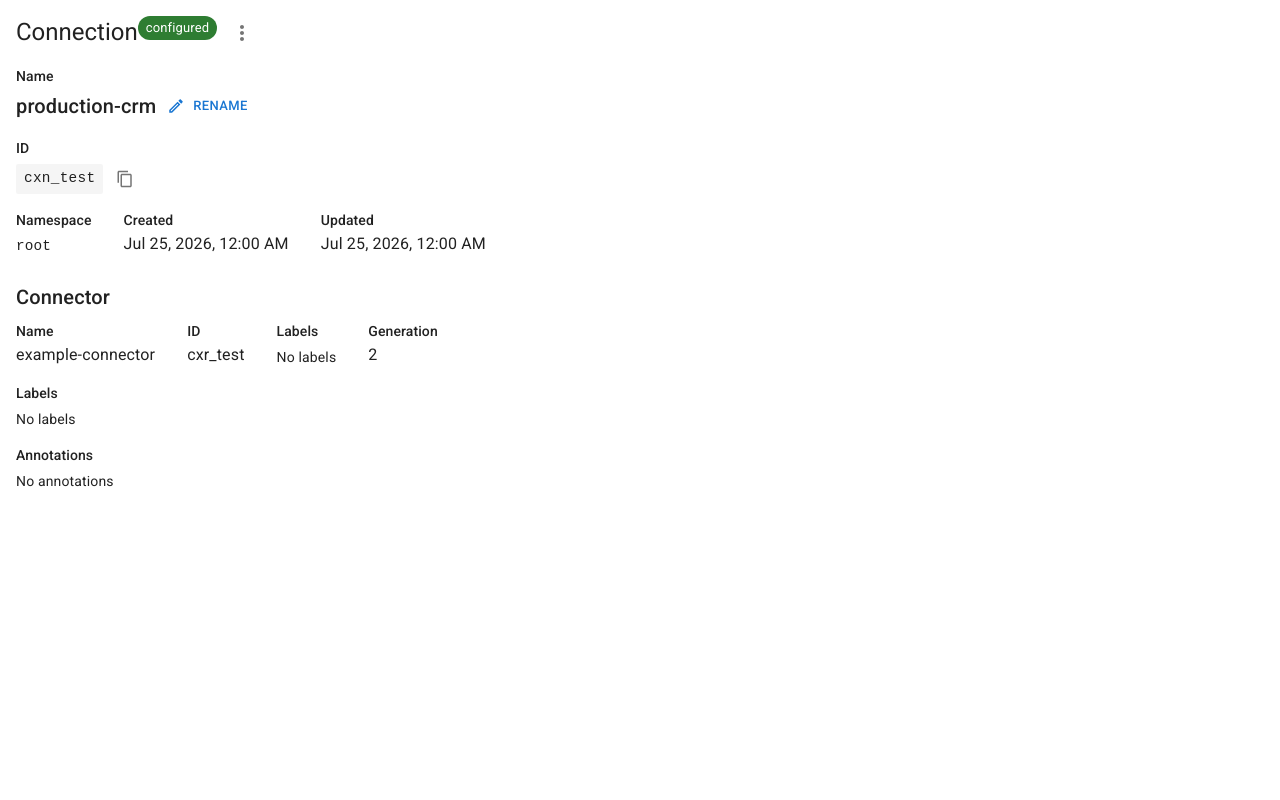
Test case: ConnectionDetail › filters migration targets and starts a migration to the primary generation
The width and height of the screenshot is (1280, 800).
Expected: the heading "Connection" is shown, [16,16,138,50]
Expected: the text "root" is shown, [16,236,51,257]
Click the button named "actions" at (242, 33), box [225,16,259,50]
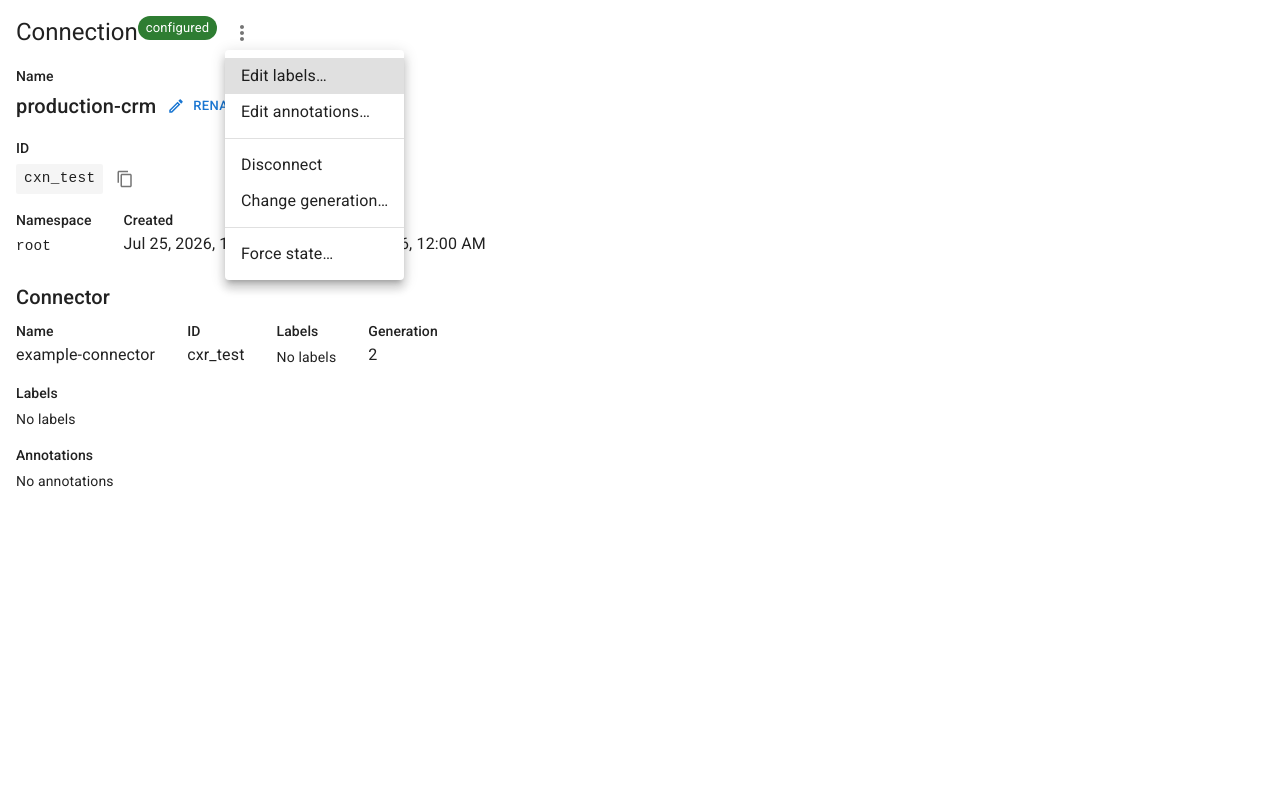
Click the menu item "Change generation…" at (315, 200), box [241,191,388,210]
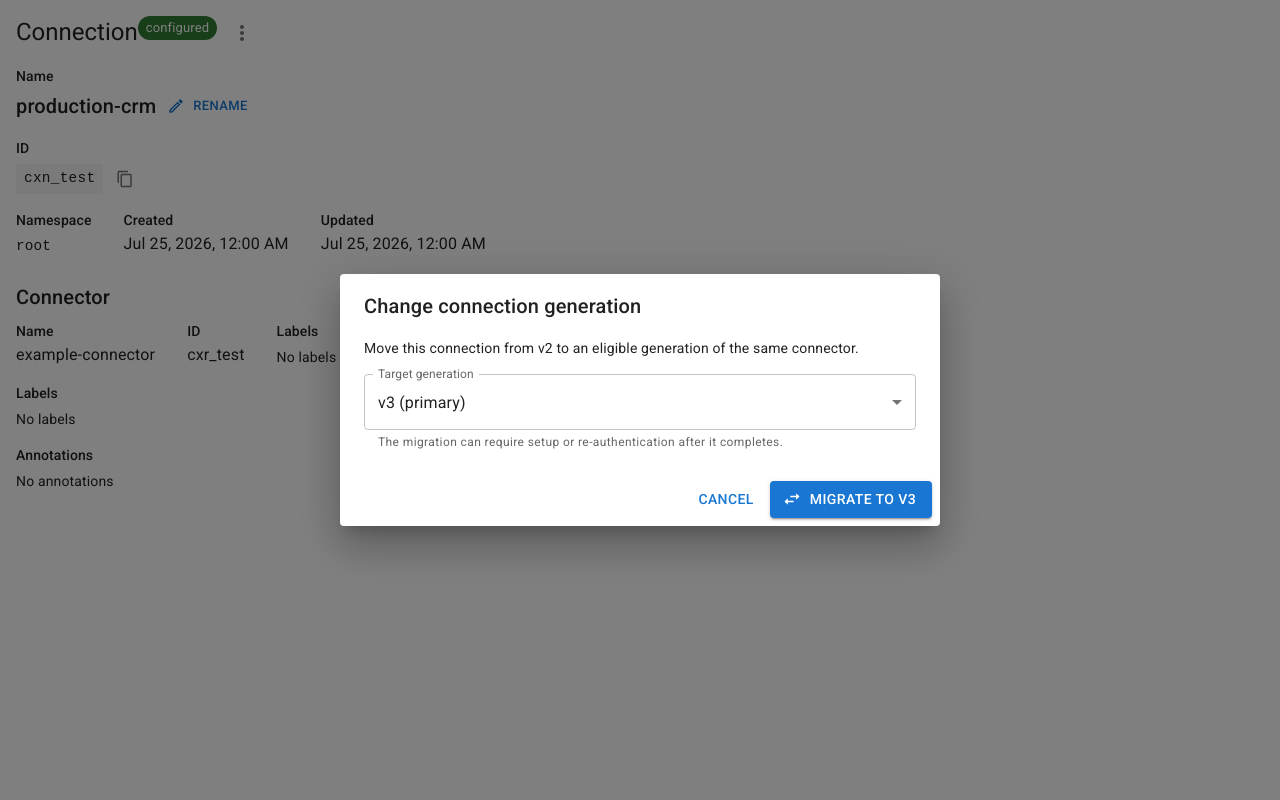
Now the dropdown labelled "Target generation" shows "v3 (primary)", box [364,374,916,430]
Click the button "Migrate to v3" at (851, 499), box [770,481,932,518]
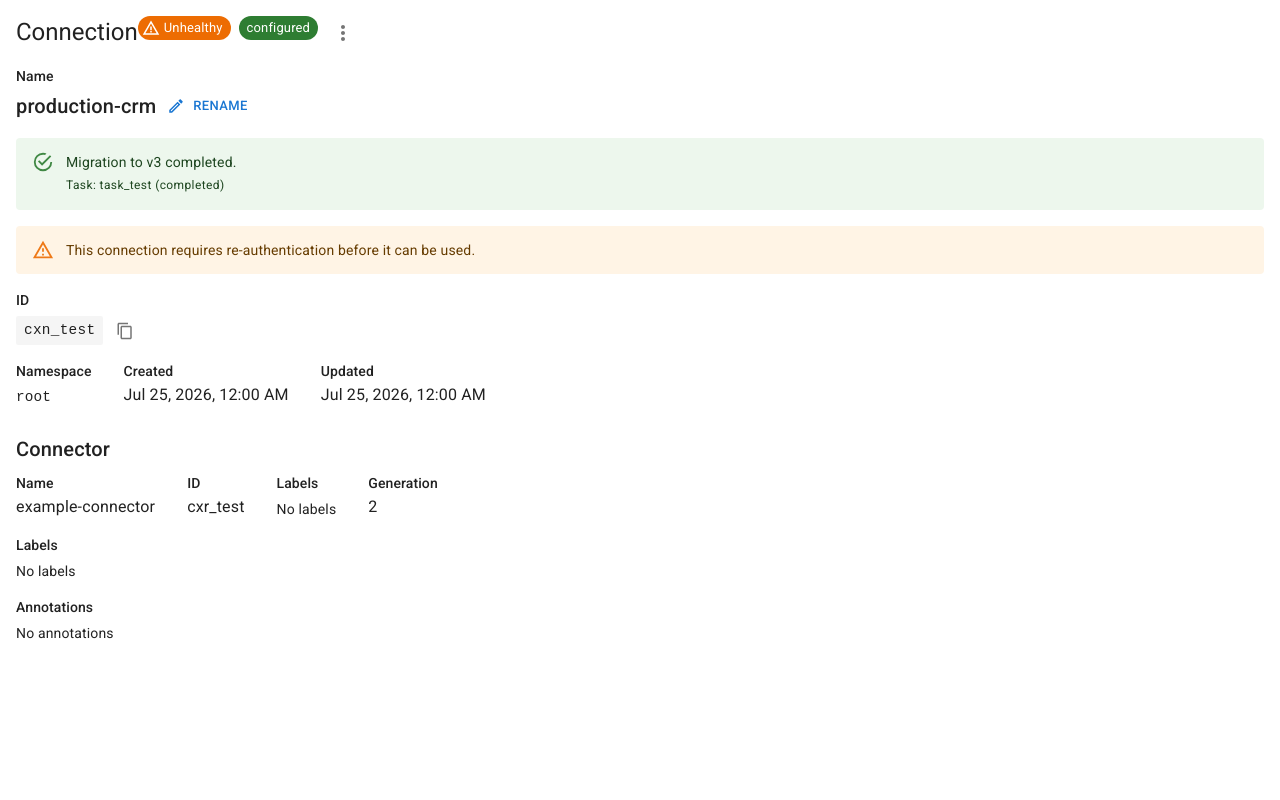
Now the text "Migration to v3 completed." is shown, box [66,154,236,170]
Now the text "This connection requires re-authentication before it can be used." is shown, box [66,242,475,258]
